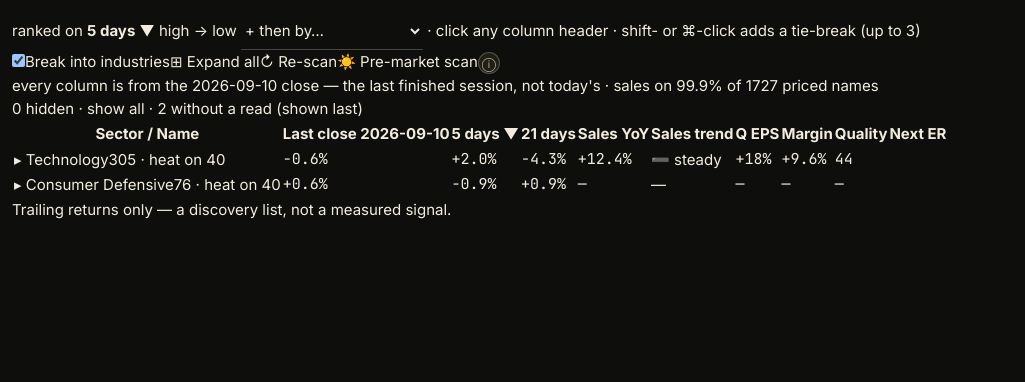
Test case: 🔥 Hottest — un-hide by reason (2026-09-17) › SECOND TOGGLE: clicking it again hides the name and the count comes back
The width and height of the screenshot is (1025, 382).
Click the button "▸ Consumer Defensive" at (94, 185), box [14,173,174,196]
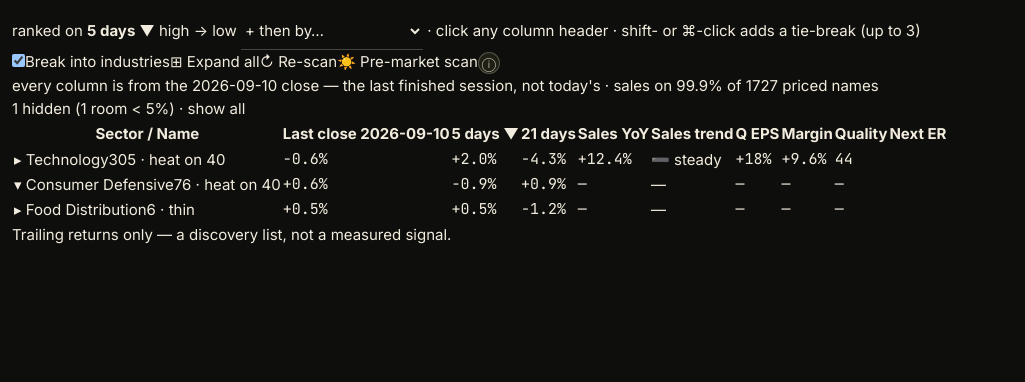
Click the button "▸ Food Distribution" at (80, 210), box [14,198,147,222]
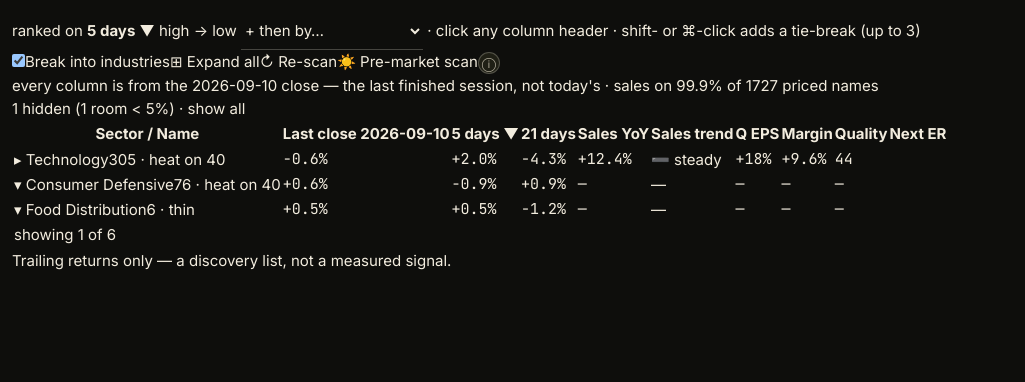
Click the button "1 room < 5%" at (125, 109), box [80,97,169,120]
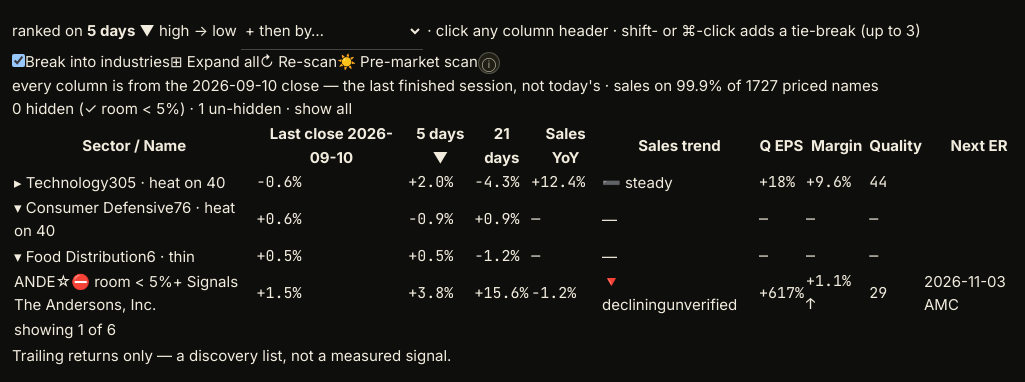
Result: the link "ANDE" is shown at [14,272,56,291]
Click the button "✓ room < 5%" at (132, 109), box [84,97,180,120]
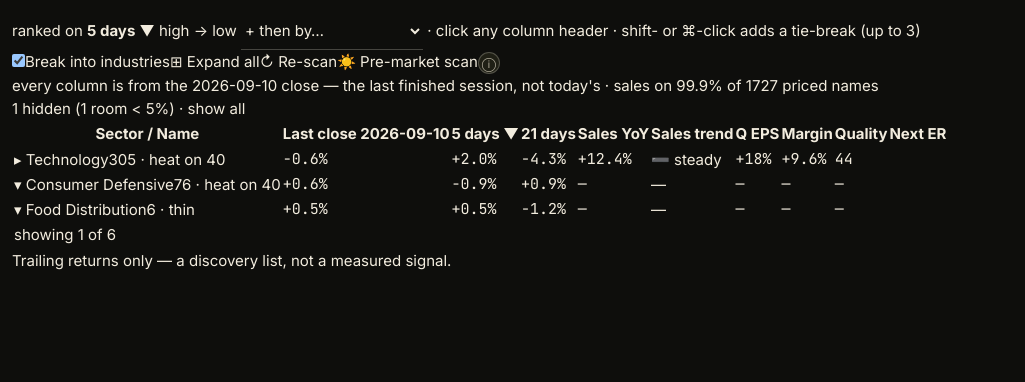
Result: the link "ANDE" is gone
Result: the text "1 hidden ( 1 room < 5% ) · show all" is shown at [12,97,245,120]
